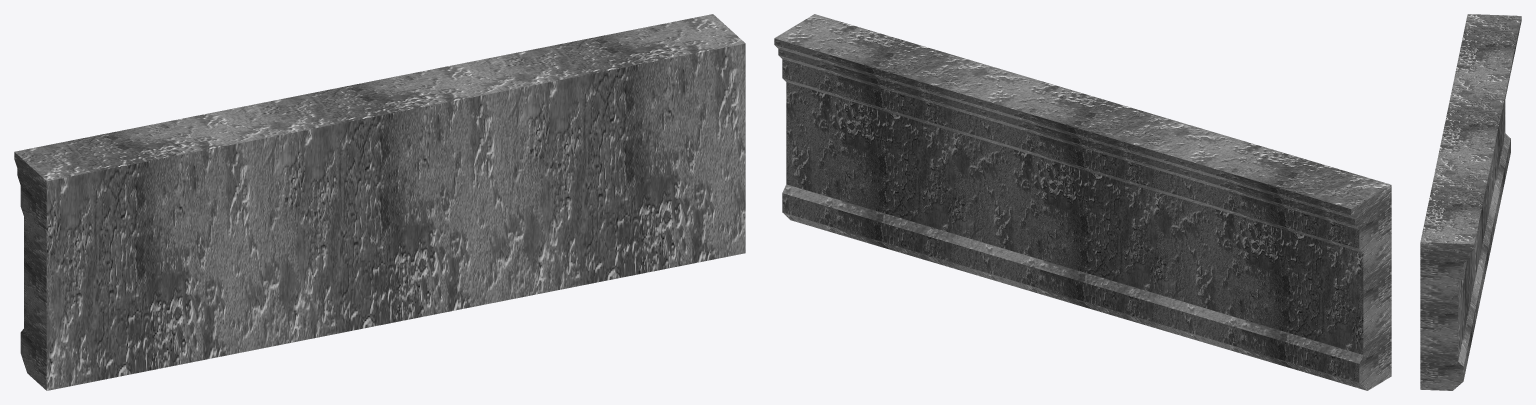
File: wall_top.glb
The picture shows the model from 3 angles, left to right: view 1: azimuth 30°, elevation 25°; view 2: azimuth 150°, elevation 25°; view 3: azimuth 270°, elevation 25°; orthographic projection. The views are drawn at different scales.
Visible parts, largest first — view 1: object1.004; view 2: object1.004; view 3: object1.004.
Boxes of the visible parts, x1=… form: object1.004: x1=14, y1=14, x2=745, y2=390; object1.004: x1=774, y1=14, x2=1391, y2=390; object1.004: x1=1420, y1=14, x2=1521, y2=390.
Size of the model in its own units: 1 by 0.3 by 0.1868.
Materials: 1 (1 with a texture image).
